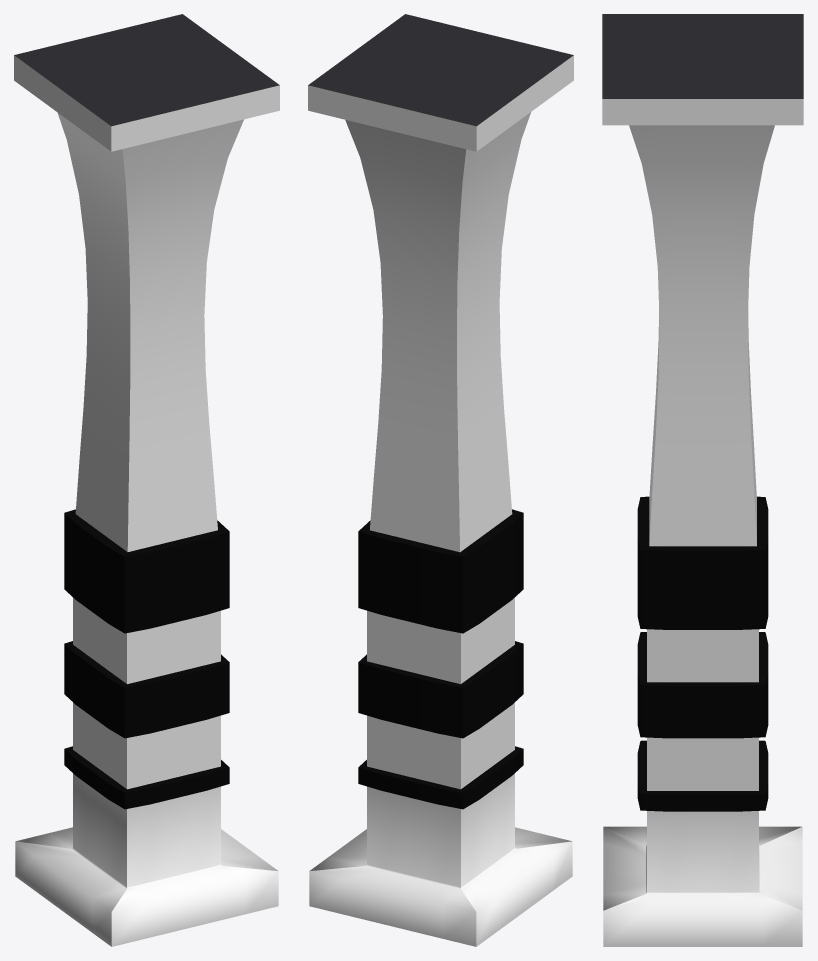
File: Interior_Collumn.FBX
The picture shows the model from 3 angles, left to right: view 1: azimuth 30°, elevation 25°; view 2: azimuth 150°, elevation 25°; view 3: azimuth 270°, elevation 25°; orthographic projection. The views are drawn at different scales.
Visible parts, largest first — view 1: Box002; view 2: Box002; view 3: Box002.
Part boxes in pixels (box(x1,y1,x2,y2)): Box002: box(14, 14, 279, 946); Box002: box(308, 14, 573, 946); Box002: box(602, 14, 803, 946).
Bounding box in the file's own units: 19.86 × 92.4 × 19.86.
